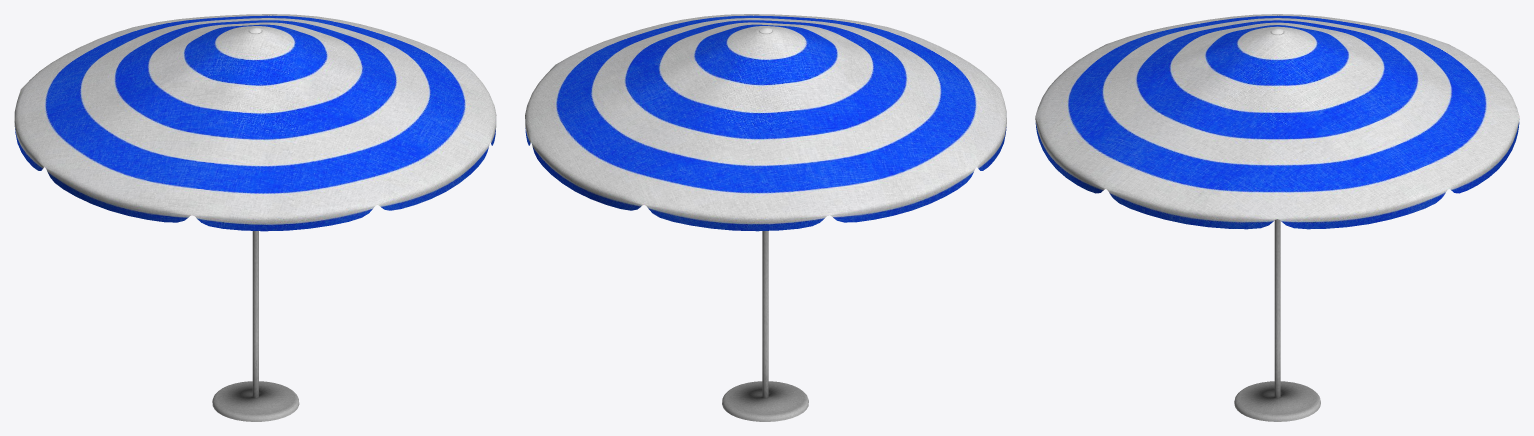
The model's file is umbrella_cafe.glb.
3 views of the same model, side by side, from view 1: azimuth 30°, elevation 25°; view 2: azimuth 150°, elevation 25°; view 3: azimuth 270°, elevation 25° (orthographic).
Parts seen in each view (by area): view 1: Cylinder_w; view 2: Cylinder_w; view 3: Cylinder_w.
Boxes of the visible parts, bbox=[...] form: Cylinder_w: bbox=[14, 14, 496, 421]; Cylinder_w: bbox=[525, 14, 1006, 421]; Cylinder_w: bbox=[1035, 14, 1519, 421].
Size of the model in its own units: 2.88 by 2.45 by 2.88.
Materials: 1 (1 with a texture image).
